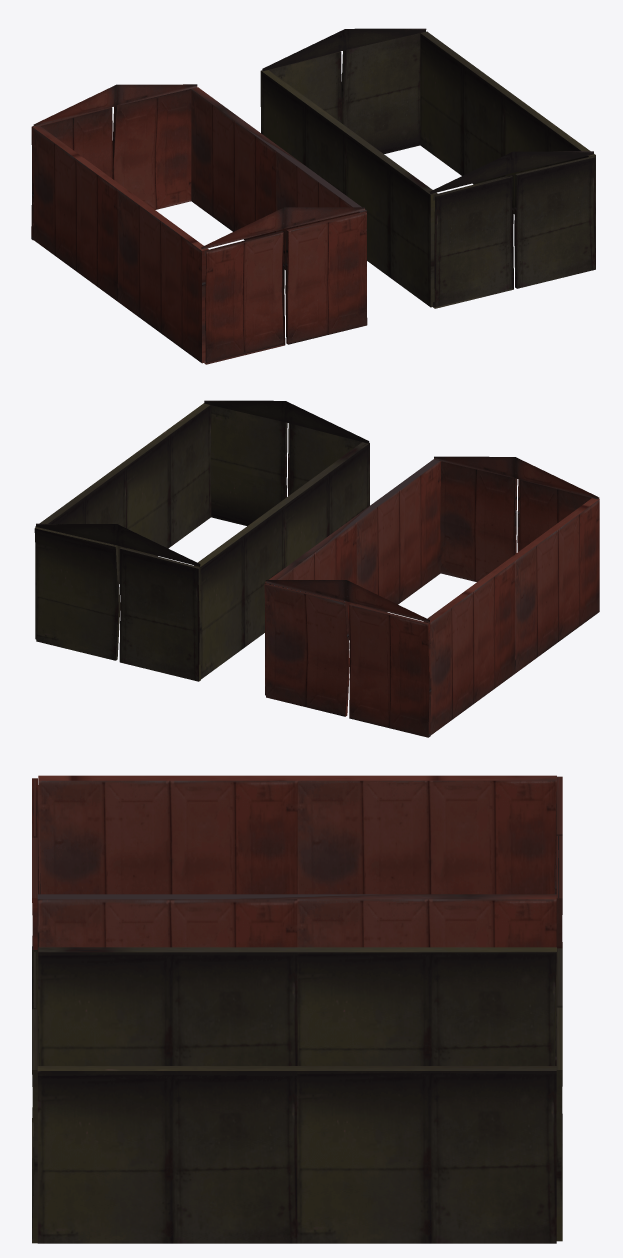
The model's file is garage_red_green joined.fbx.
3 renders of one model, top to bottom at view 1: azimuth 30°, elevation 25°; view 2: azimuth 150°, elevation 25°; view 3: azimuth 270°, elevation 25°, orthographic. The views are drawn at different scales.
Parts seen in each view (by area): view 1: kelly-sikkema-JUPzi-F3Iww-unsplash.015; view 2: kelly-sikkema-JUPzi-F3Iww-unsplash.015; view 3: kelly-sikkema-JUPzi-F3Iww-unsplash.015.
Boxes of the visible parts, x1,y1,x2,y2 form: kelly-sikkema-JUPzi-F3Iww-unsplash.015: [31, 28, 595, 364]; kelly-sikkema-JUPzi-F3Iww-unsplash.015: [34, 400, 599, 737]; kelly-sikkema-JUPzi-F3Iww-unsplash.015: [32, 775, 562, 1243].
Bounding box in the file's own units: 846 × 270 × 681.
1 material, 1 textured.
